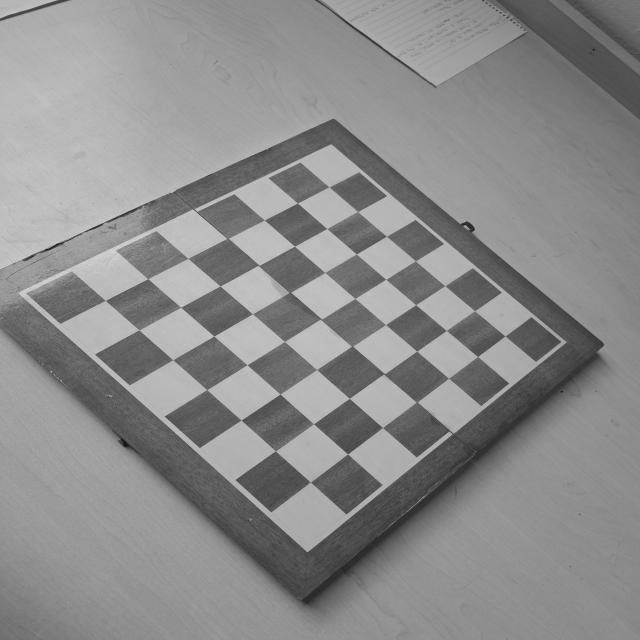chess-table-corners: (292, 535, 322, 555), (14, 285, 40, 303), (548, 334, 572, 350), (318, 141, 342, 156)
